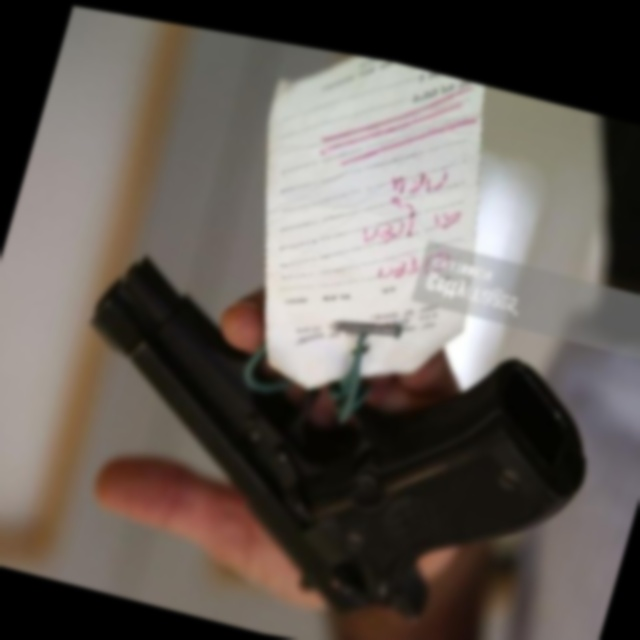gun: (15, 237, 625, 640)
